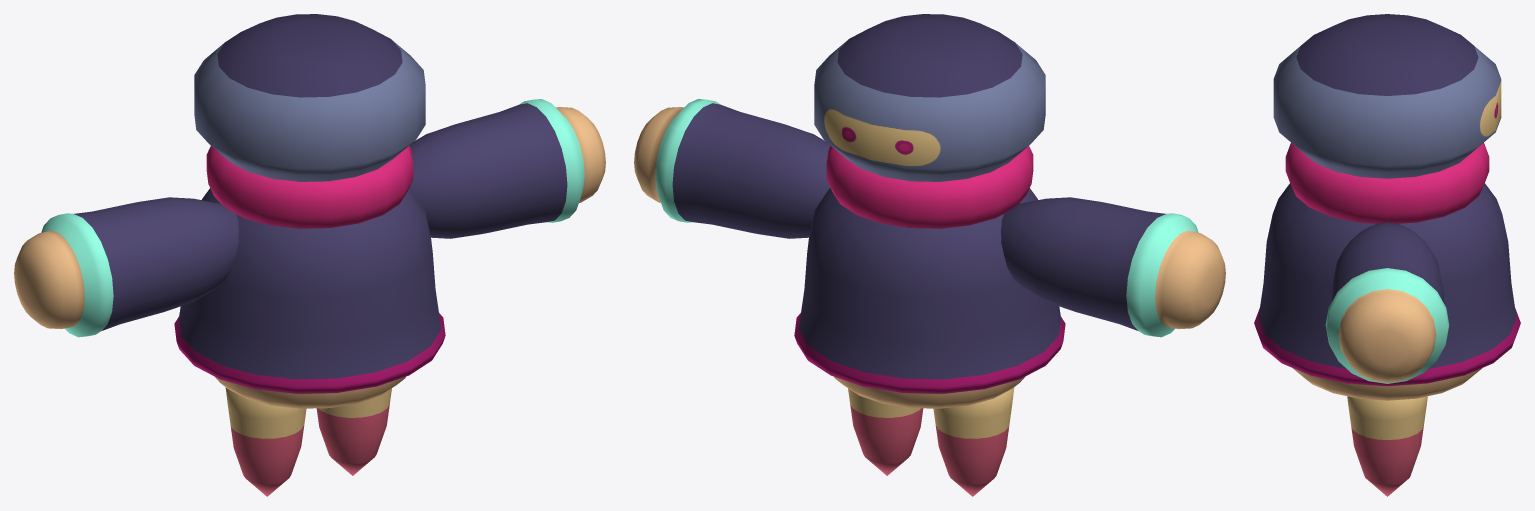
Rendered from mesh_char_75.fbx.
The picture shows the model from 3 angles, left to right: view 1: azimuth 30°, elevation 25°; view 2: azimuth 150°, elevation 25°; view 3: azimuth 270°, elevation 25°; orthographic projection. The views are drawn at different scales.
Parts seen in each view (by area): view 1: mesh_char_75; view 2: mesh_char_75; view 3: mesh_char_75.
Part boxes in pixels (x1=…): mesh_char_75: x1=14, y1=14, x2=605, y2=496; mesh_char_75: x1=634, y1=14, x2=1225, y2=496; mesh_char_75: x1=1254, y1=14, x2=1520, y2=496.
Size of the model in its own units: 9.31 by 7.1 by 3.9.
Materials: 1 (1 with a texture image).
